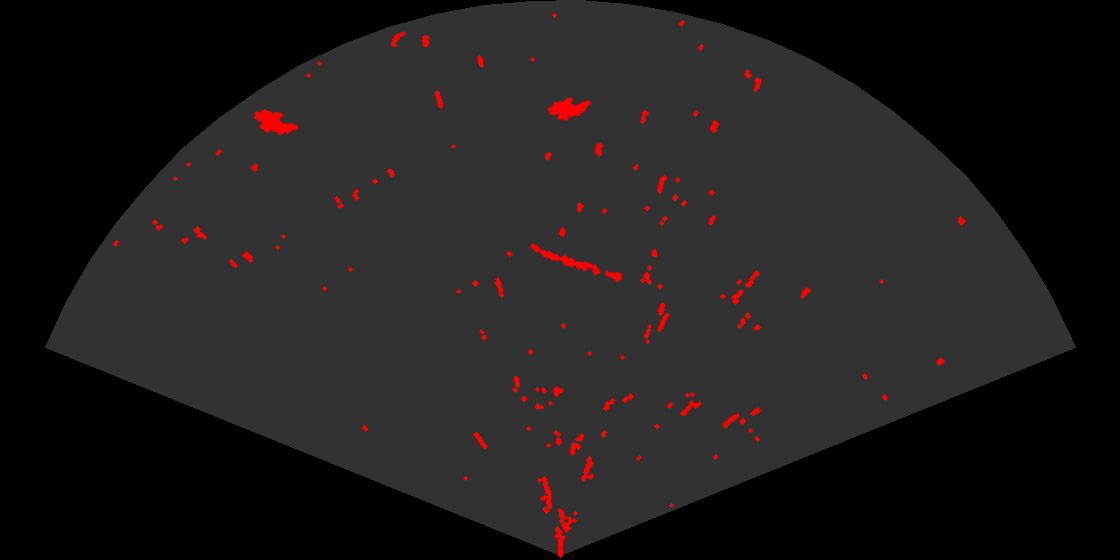AUV: (252, 108, 301, 137), (545, 96, 593, 123)
chain: (528, 242, 624, 284)
